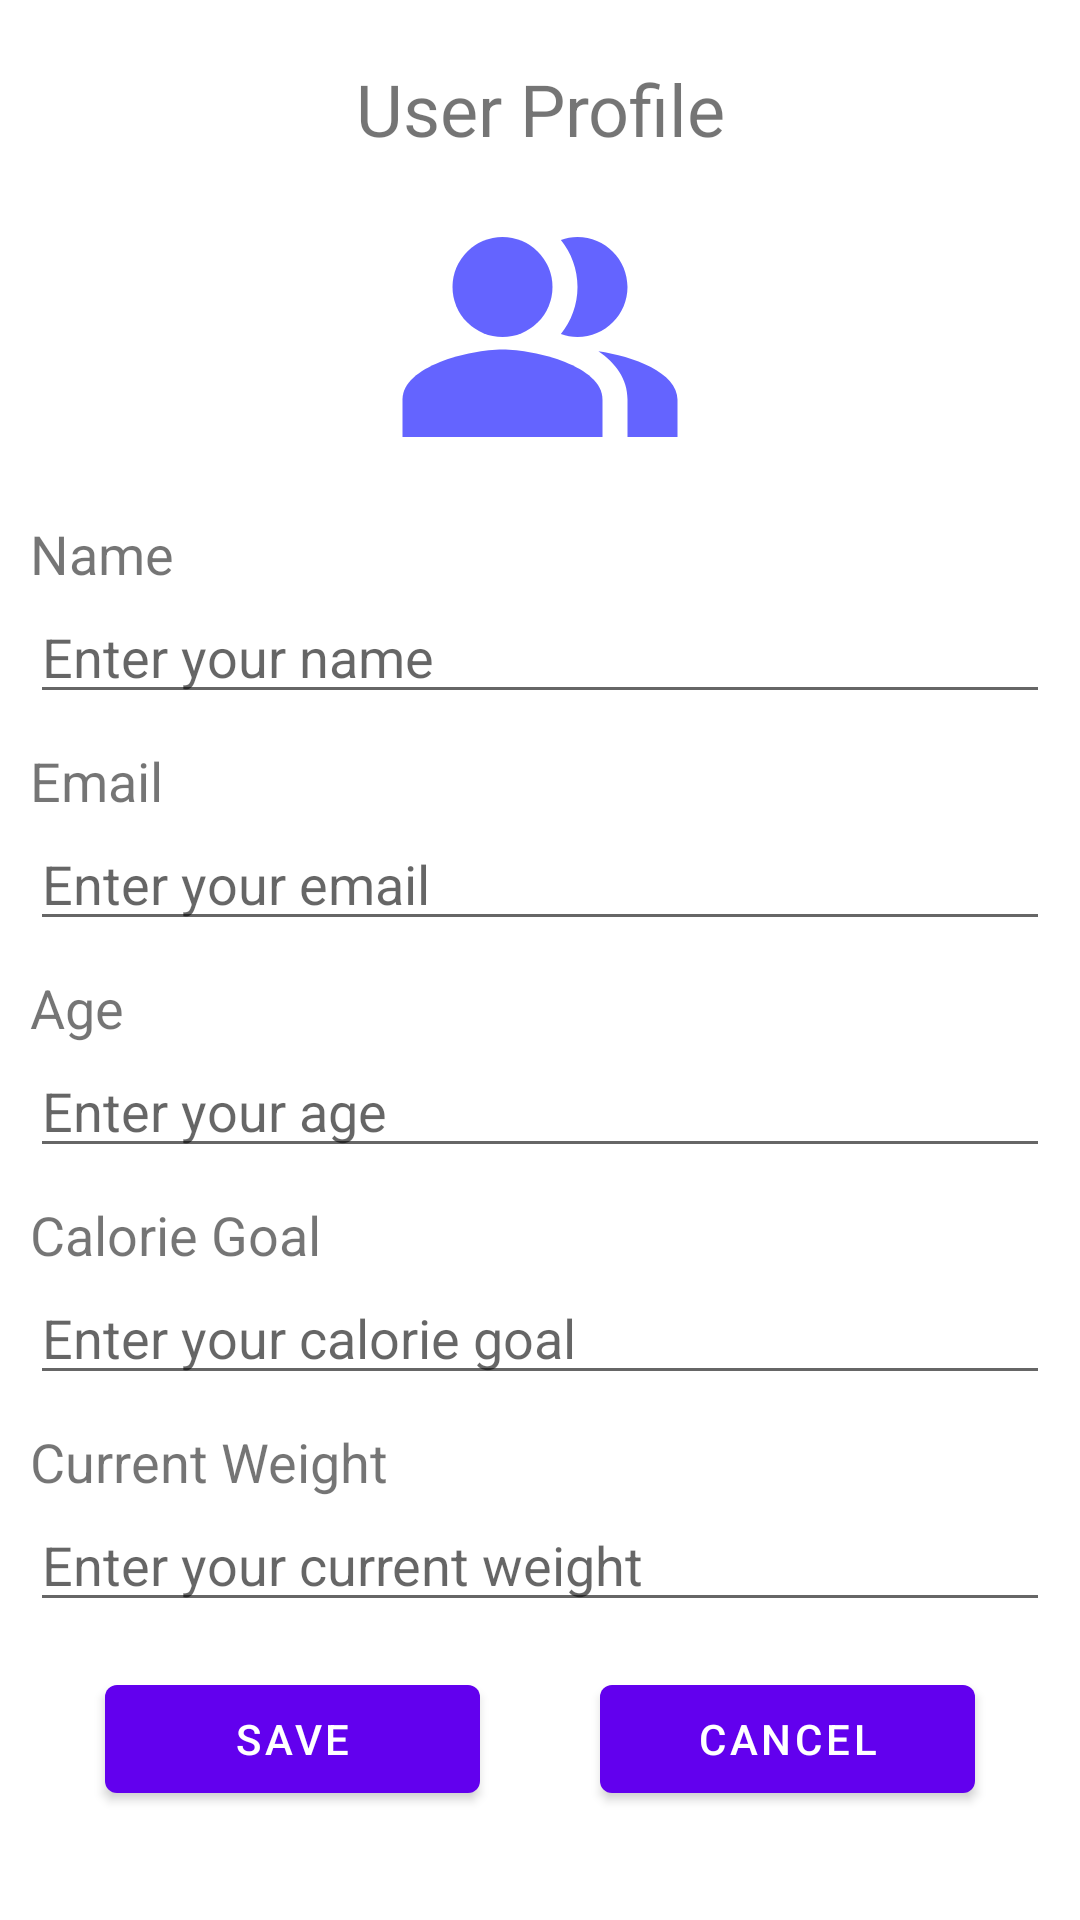

Where icons sit on this 1080 x 1920 app screen, as (x1, y1, x2, y2):
people: (402, 237, 678, 437)
